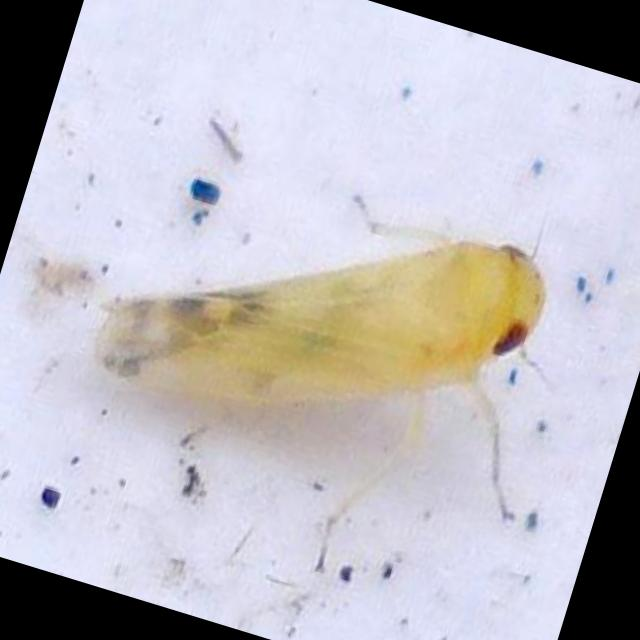green-leafhopper: (99, 201, 550, 568)
